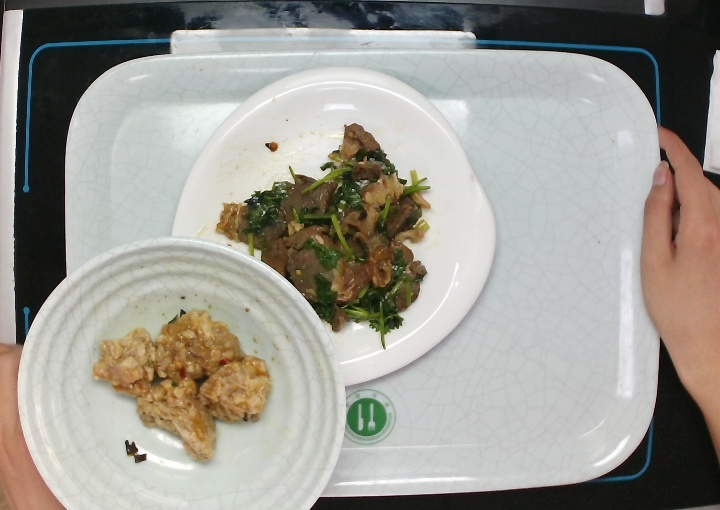JYsf-Da_Tang_Wan: (14, 234, 346, 510)
JYsf-Mian_Pan: (170, 64, 498, 390)
